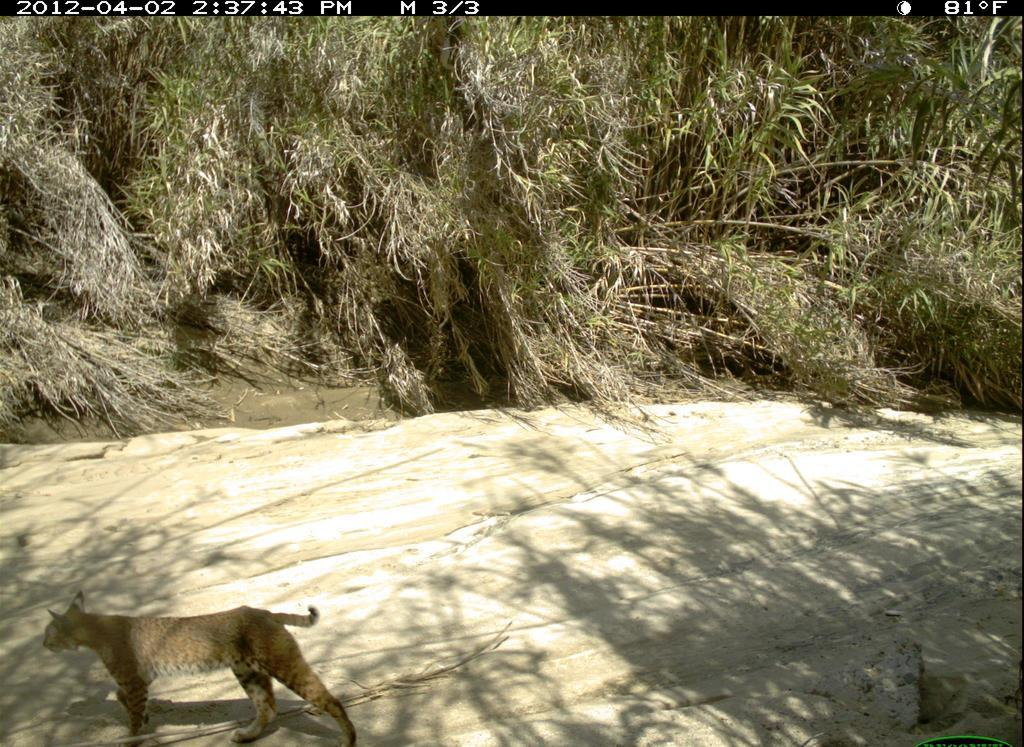bobcat: (40, 592, 369, 747)
